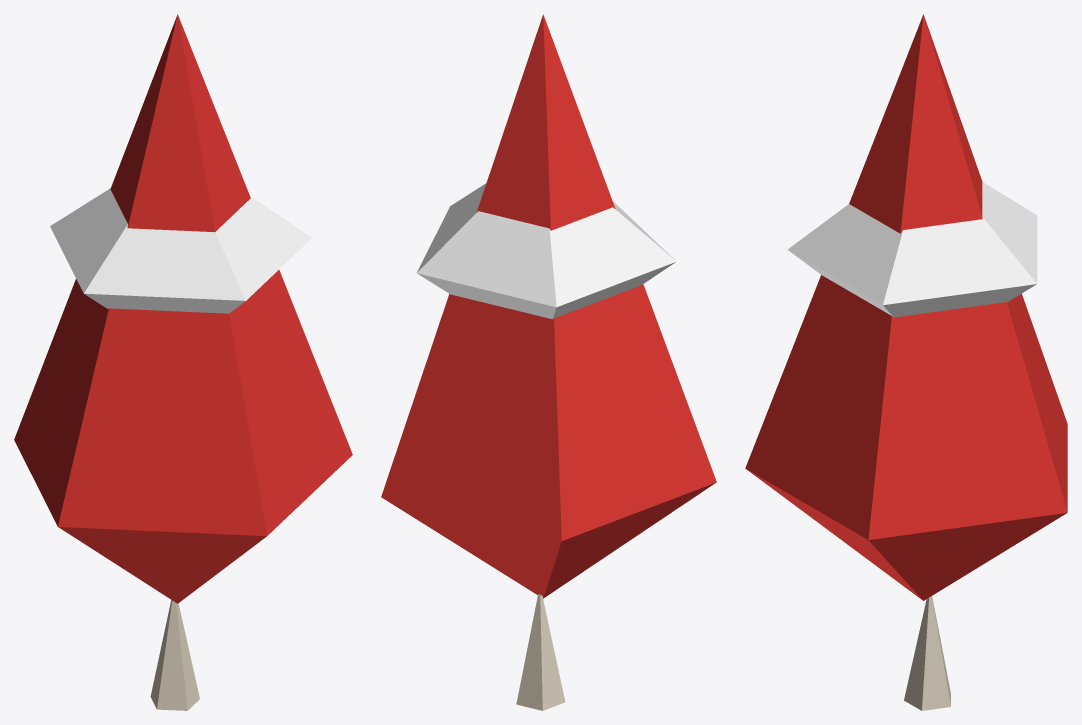
File: land_tree_toy_stack_far.glb
The picture shows the model from 3 angles, left to right: view 1: azimuth 30°, elevation 25°; view 2: azimuth 150°, elevation 25°; view 3: azimuth 270°, elevation 25°; orthographic projection.
Size of the model in its own units: 3.71 by 8.28 by 3.53.
